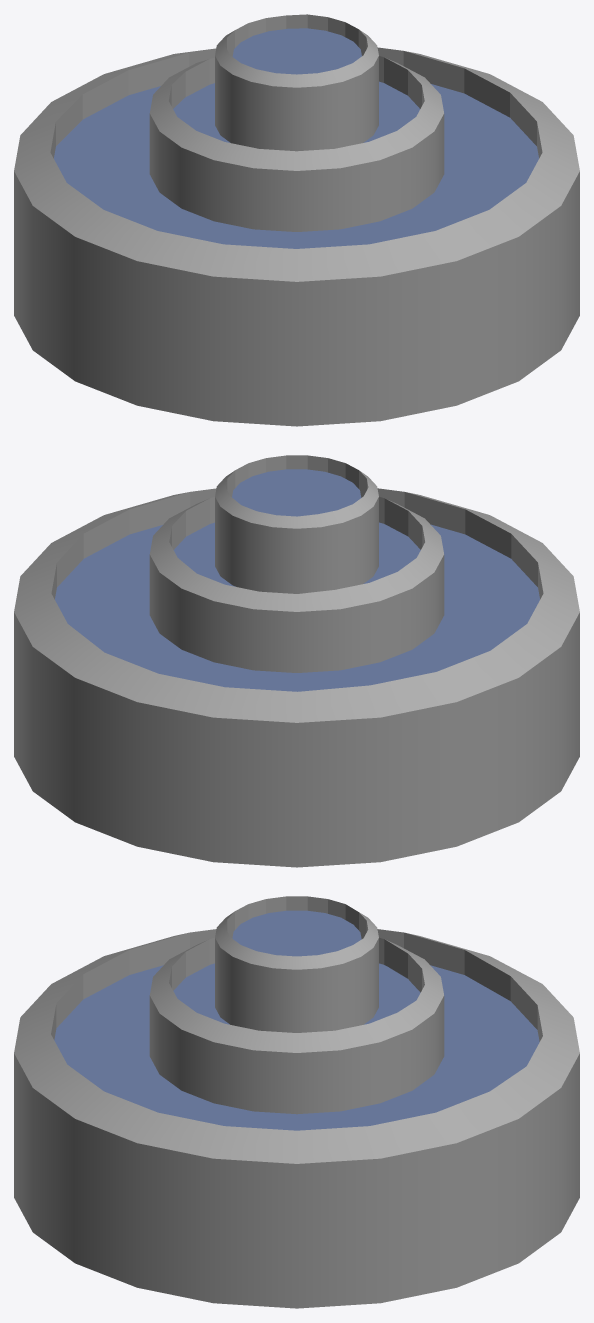
The model's file is Fountain.fbx.
3 renders of one model, top to bottom at view 1: azimuth 30°, elevation 25°; view 2: azimuth 150°, elevation 25°; view 3: azimuth 270°, elevation 25°, orthographic.
Visible parts, largest first — view 1: polySurface5, polySurface8, polySurface7, polySurface10, polySurface11, polySurface9; view 2: polySurface5, polySurface8, polySurface7, polySurface10, polySurface11, polySurface9; view 3: polySurface5, polySurface8, polySurface7, polySurface10, polySurface11, polySurface9.
Part boxes in pixels (x1,y1,x2,y2): polySurface5: (14, 47, 579, 426); polySurface8: (149, 56, 444, 231); polySurface7: (54, 84, 538, 248); polySurface10: (215, 14, 378, 151); polySurface11: (232, 28, 361, 74); polySurface9: (173, 81, 420, 142); polySurface5: (14, 488, 579, 867); polySurface8: (149, 496, 444, 672); polySurface7: (55, 524, 539, 691); polySurface10: (215, 455, 378, 593); polySurface11: (232, 469, 361, 516); polySurface9: (173, 522, 420, 586); polySurface5: (14, 929, 579, 1308); polySurface8: (149, 937, 444, 1114); polySurface7: (54, 965, 539, 1130); polySurface10: (215, 896, 378, 1032); polySurface11: (232, 910, 361, 956); polySurface9: (173, 963, 420, 1024).
Size of the model in its own units: 14.94 by 7.66 by 14.98.
